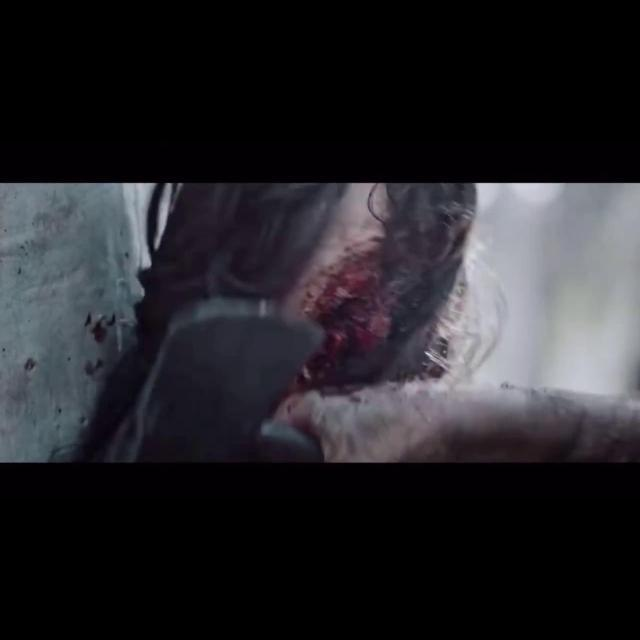blood: (278, 239, 390, 415), (84, 312, 116, 344), (86, 359, 103, 375)
